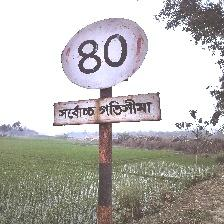Speed-limit: (54, 18, 159, 126)
